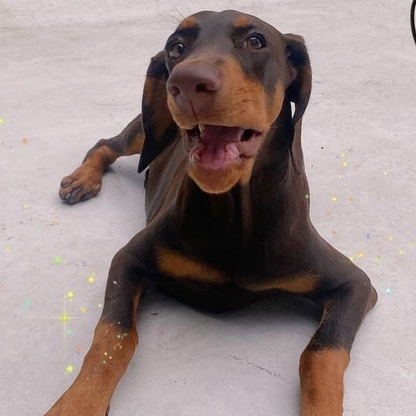doberman: (65, 9, 377, 416)
